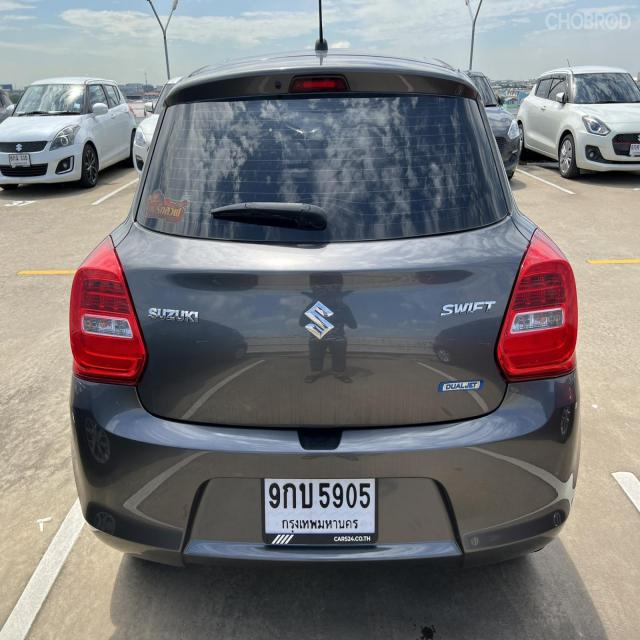license_plate: (260, 474, 378, 549)
